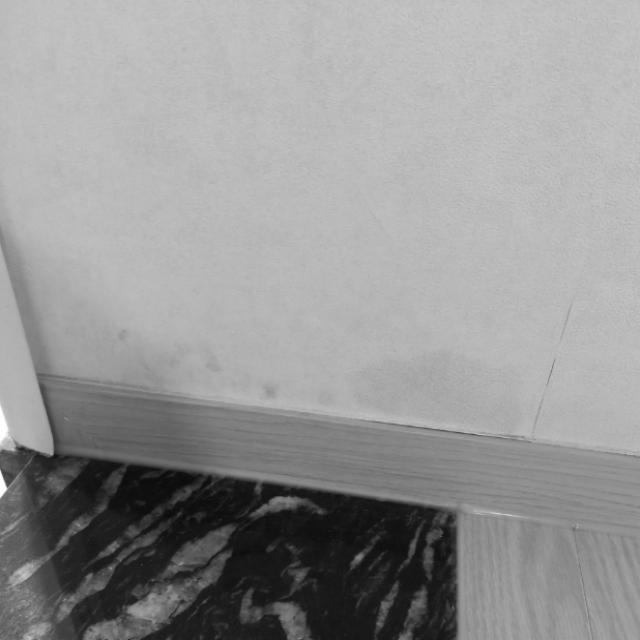stain marks: (35, 240, 298, 404), (312, 313, 544, 442)
